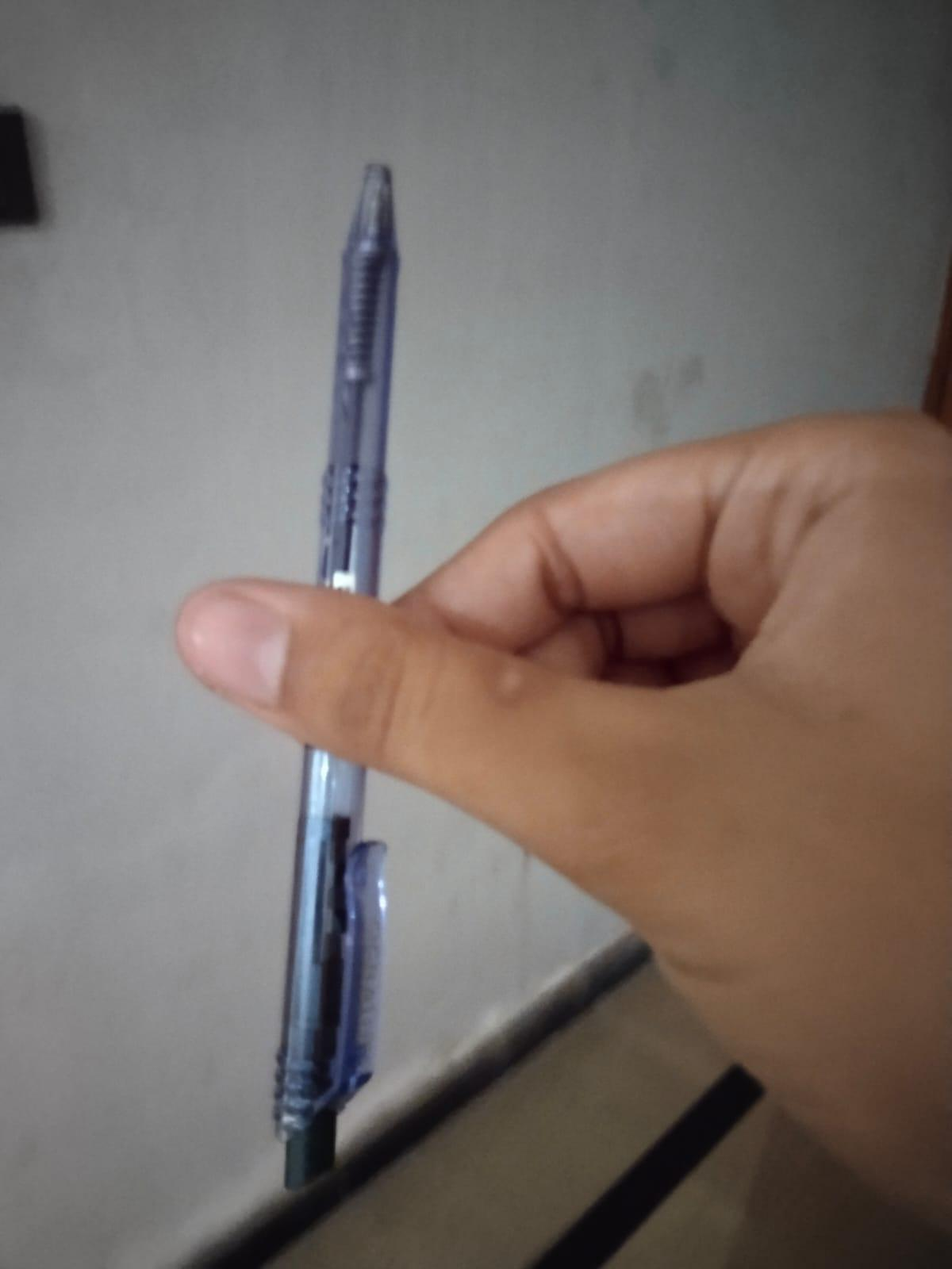ballpoint2: (274, 746, 386, 1188), (317, 164, 398, 596)
